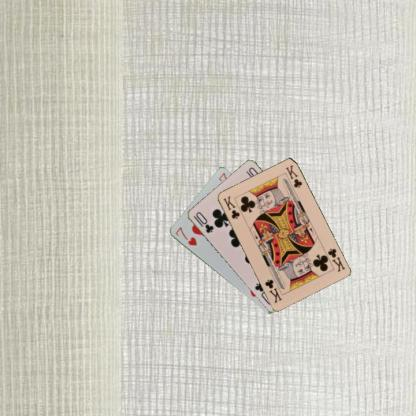10c: (193, 209, 215, 234)
7h: (173, 224, 198, 247)
Kc: (220, 193, 241, 220), (325, 245, 346, 272)
